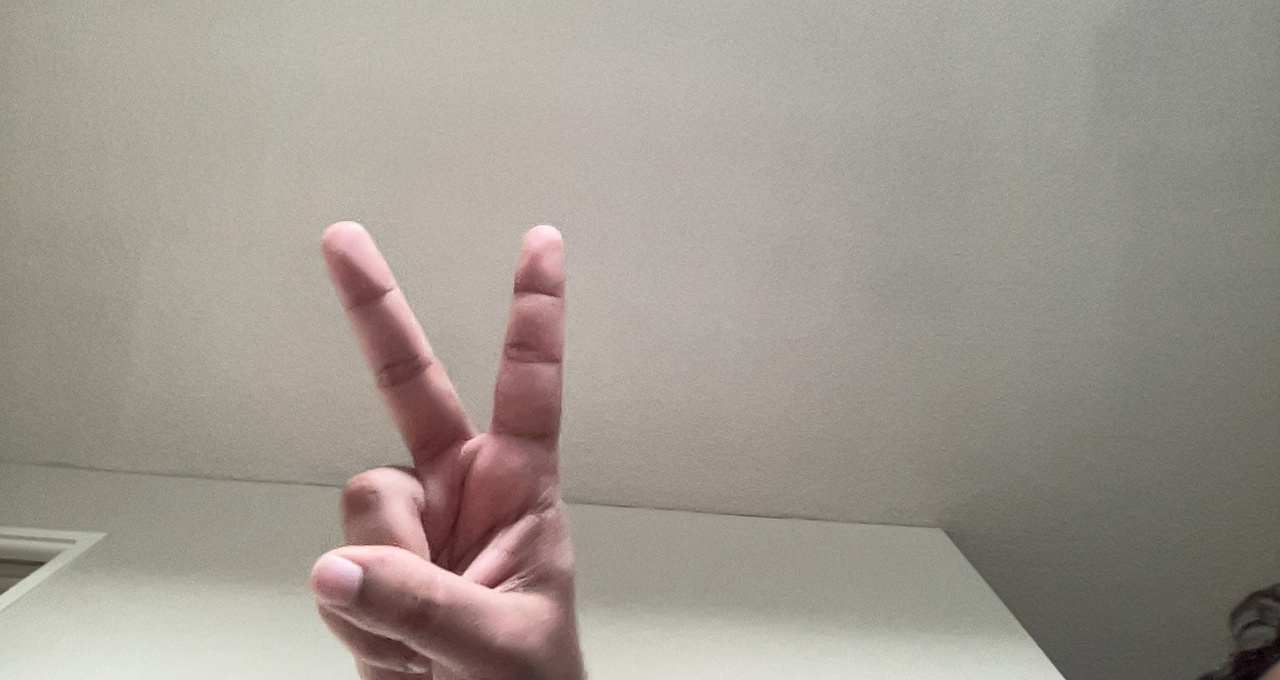peace sign: (289, 206, 595, 674)
